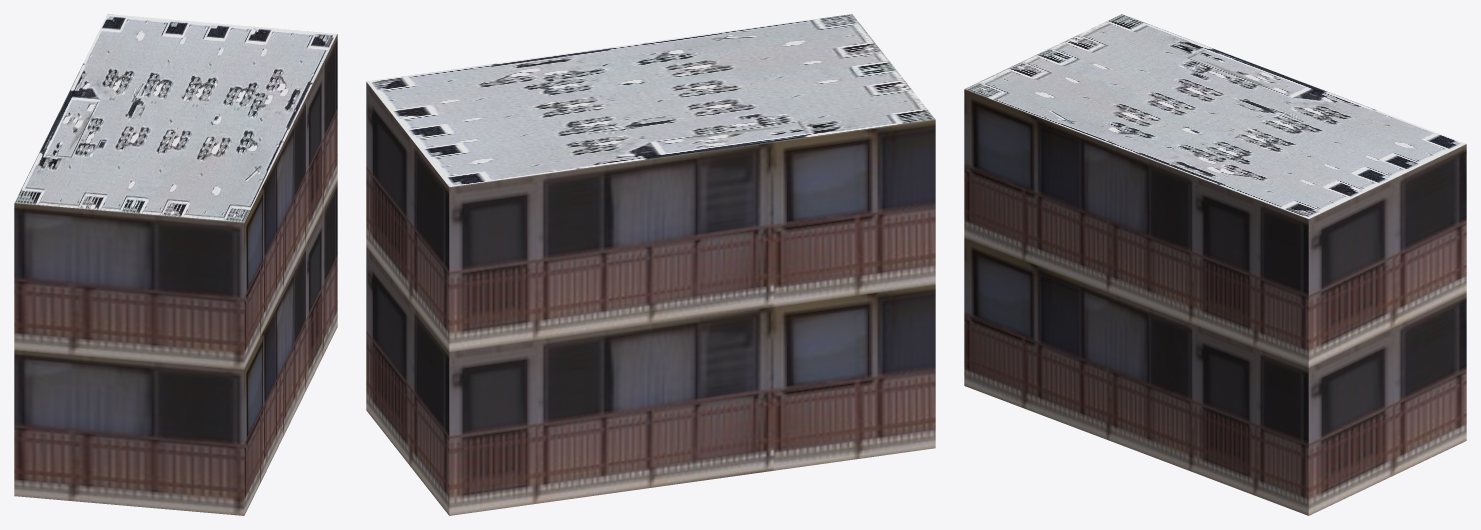
File: ResTex__451.fbx
3 renders of one model, left to right at view 1: azimuth 30°, elevation 25°; view 2: azimuth 150°, elevation 25°; view 3: azimuth 270°, elevation 25°, orthographic. The views are drawn at different scales.
Parts seen in each view (by area): view 1: CityEngineMaterial_6_m, CityEngineMaterial_4_m; view 2: CityEngineMaterial_6_m, CityEngineMaterial_4_m; view 3: CityEngineMaterial_6_m, CityEngineMaterial_4_m.
Part boxes in pixels (x1,y1,x2,y2): CityEngineMaterial_6_m: (14,34,337,515); CityEngineMaterial_4_m: (14,14,337,222); CityEngineMaterial_6_m: (366,82,935,515); CityEngineMaterial_4_m: (367,14,935,186); CityEngineMaterial_6_m: (964,89,1466,515); CityEngineMaterial_4_m: (964,14,1466,218).
Bounding box in the file's own units: 8.89 × 6 × 9.2.
Materials: 2 (2 with a texture image).
